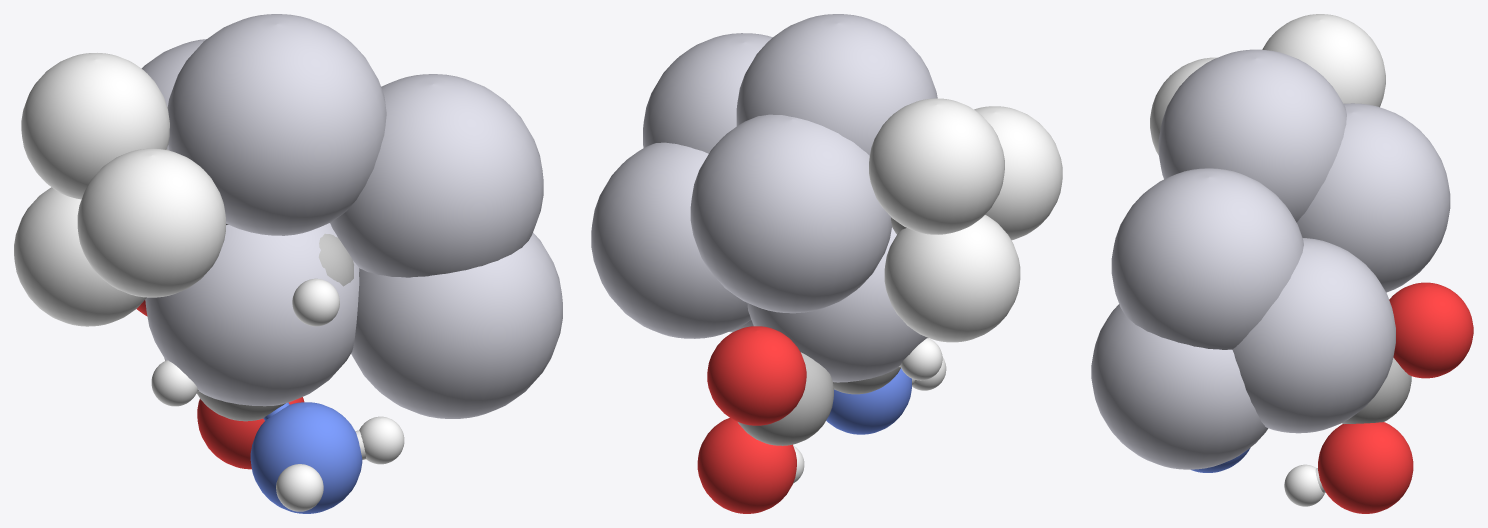
Rendered from isoleucine.glb.
3 views of the same model, side by side, from view 1: azimuth 30°, elevation 25°; view 2: azimuth 150°, elevation 25°; view 3: azimuth 270°, elevation 25° (orthographic). The views are drawn at different scales.
Parts seen in each view (by area): view 1: Mercury_ball (×5), HD_ball (×3), Nitrogen_ball, Hydrogen_ball (×4), Oxygen_ball, Carbon_ball (×2); view 2: Mercury_ball (×5), HD_ball (×3), Oxygen_ball (×2), Carbon_ball (×2), Nitrogen_ball, Hydrogen_ball; view 3: Mercury_ball (×5), Oxygen_ball (×2), HD_ball (×2), Carbon_ball, Hydrogen_ball.
Part boxes in pixels (x1,y1,x2,y2): Mercury_ball (×5): [141, 14, 562, 418]; HD_ball (×3): [14, 53, 225, 326]; Nitrogen_ball: [250, 402, 362, 513]; Hydrogen_ball (×4): [151, 278, 404, 511]; Oxygen_ball: [197, 397, 304, 469]; Carbon_ball (×2): [197, 233, 353, 421]; Mercury_ball (×5): [591, 14, 937, 382]; HD_ball (×3): [869, 98, 1062, 342]; Oxygen_ball (×2): [697, 326, 806, 513]; Carbon_ball (×2): [738, 352, 900, 445]; Nitrogen_ball: [826, 368, 911, 434]; Hydrogen_ball: [900, 338, 942, 380]; Mercury_ball (×5): [1091, 49, 1450, 469]; Oxygen_ball (×2): [1318, 282, 1473, 513]; HD_ball (×2): [1150, 14, 1385, 155]; Carbon_ball: [1342, 357, 1411, 423]; Hydrogen_ball: [1284, 464, 1324, 506].
Size of the model in its own units: 7.03 by 7.31 by 5.82.
